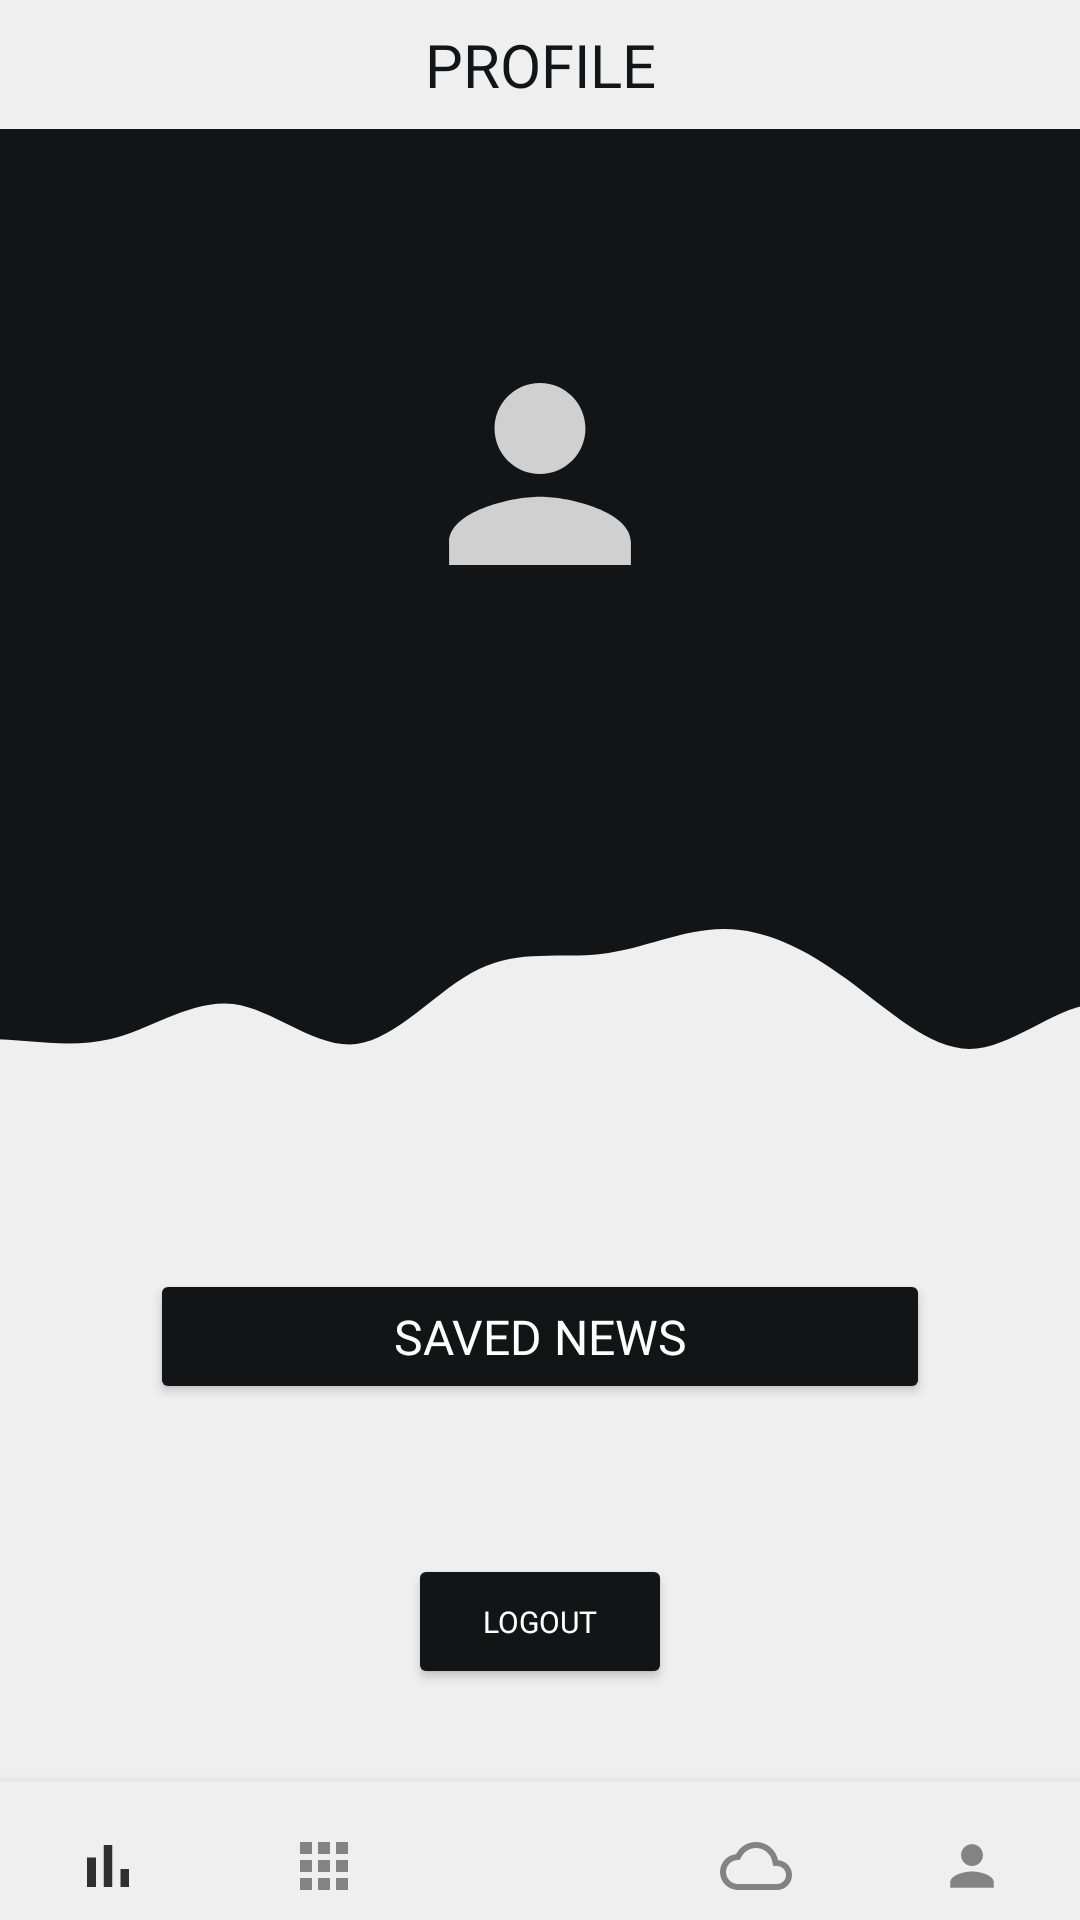

Named icons in this screenshot (1080 x 1920) and their bounding boxes, bbox=(x1, y1, x2, y2):
prson: bbox=(449, 383, 631, 565)
